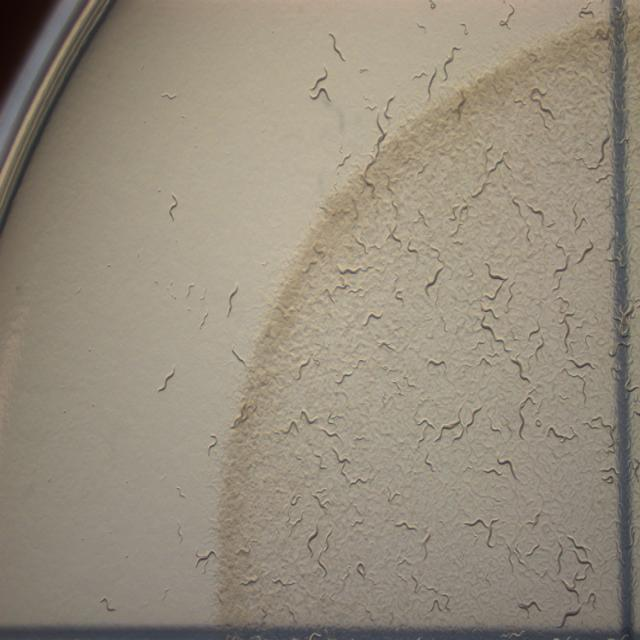filarid: (480, 262, 509, 312), (424, 245, 445, 296), (374, 324, 400, 353), (391, 267, 405, 309), (158, 364, 175, 392), (226, 282, 239, 316), (362, 310, 384, 327), (513, 357, 528, 380), (421, 344, 448, 356), (169, 194, 178, 219), (424, 357, 446, 367), (408, 244, 419, 263), (199, 310, 209, 329), (481, 317, 492, 329), (186, 284, 195, 297), (200, 287, 208, 300), (420, 267, 428, 279), (398, 327, 403, 343), (468, 270, 474, 280), (492, 332, 498, 340), (238, 358, 244, 363)
